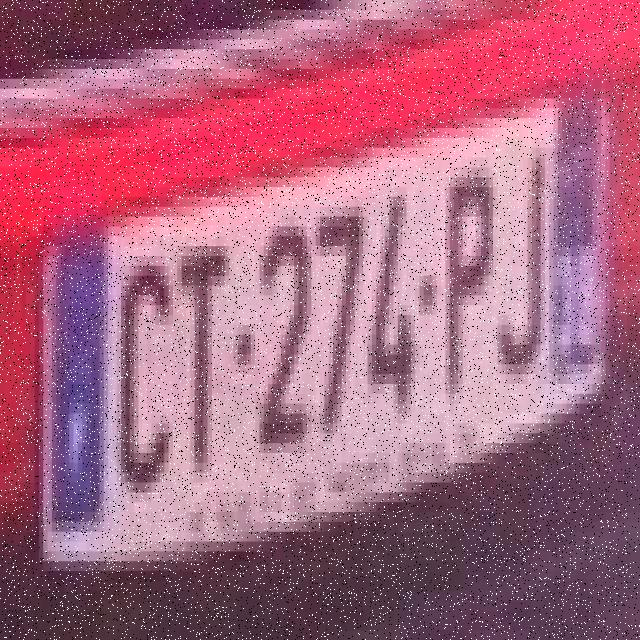licenseplate: (42, 100, 618, 526)
